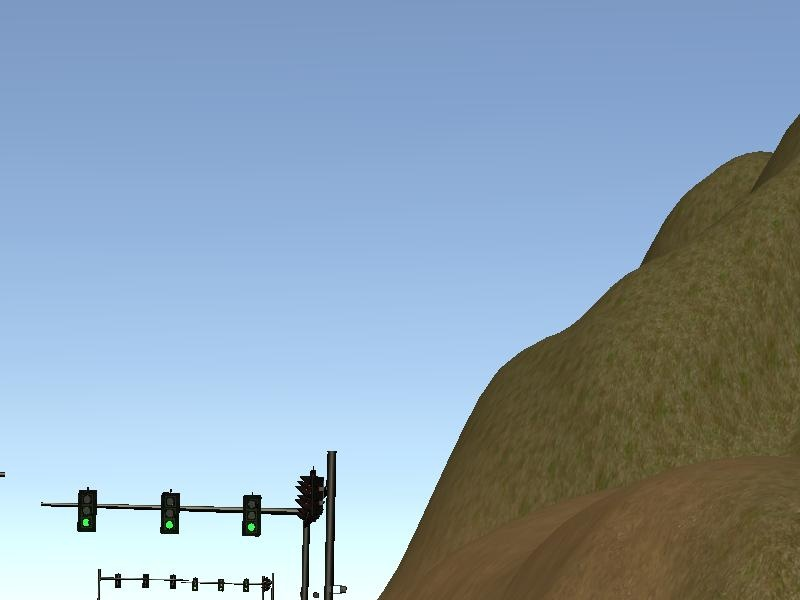traffic_light_green: (62, 488, 297, 539)
